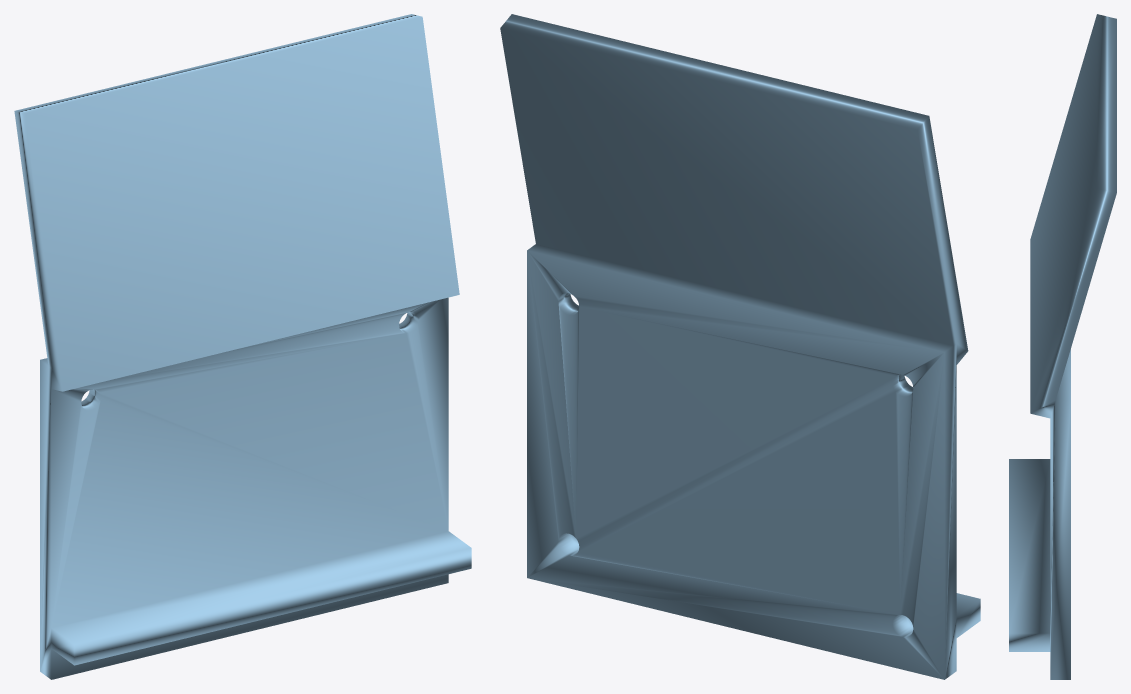
The model's file is bracket.glb.
The picture shows the model from 3 angles, left to right: view 1: azimuth 30°, elevation 25°; view 2: azimuth 150°, elevation 25°; view 3: azimuth 270°, elevation 25°; orthographic projection. The views are drawn at different scales.
Parts seen in each view (by area): view 1: PhoneStandBracket; view 2: PhoneStandBracket; view 3: PhoneStandBracket.
Boxes of the visible parts, x1,y1,x2,y2 form: PhoneStandBracket: (14, 14, 471, 679); PhoneStandBracket: (500, 14, 980, 679); PhoneStandBracket: (1009, 14, 1116, 679).
Size of the model in its own units: 80 by 105 by 20.94.
